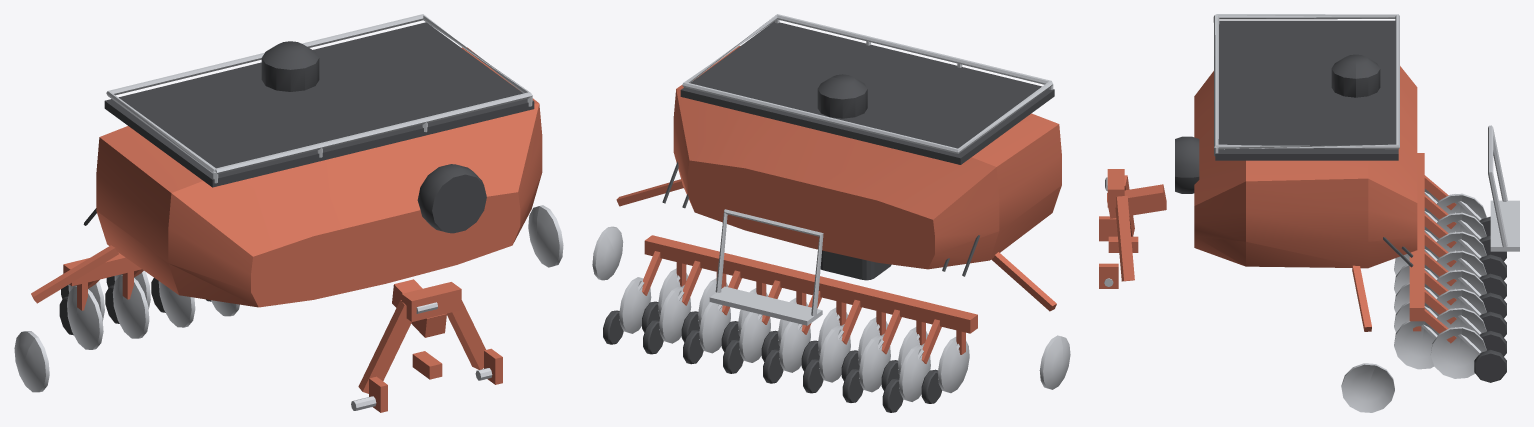
The model's file is arable-fields-and-farm-machinery-seed-drill-e07bf721__16854.glb.
The picture shows the model from 3 angles, left to right: view 1: azimuth 30°, elevation 25°; view 2: azimuth 150°, elevation 25°; view 3: azimuth 270°, elevation 25°; orthographic projection. The views are drawn at different scales.
Visible parts, largest first — view 1: seed-drill; view 2: seed-drill; view 3: seed-drill.
Boxes of the visible parts, x1,y1,x2,y2 form: seed-drill: (14, 14, 563, 412); seed-drill: (592, 14, 1070, 412); seed-drill: (1099, 14, 1519, 412).
Bounding box in the file's own units: 4.2 × 2.22 × 3.44.
